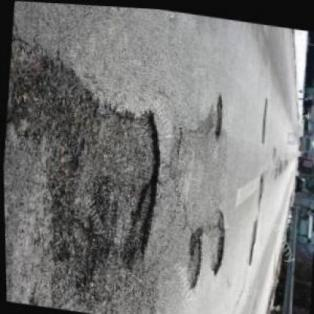Hueco: (30, 89, 168, 303), (180, 220, 205, 289), (205, 203, 226, 274), (243, 208, 257, 264), (211, 89, 224, 136), (259, 91, 269, 141), (254, 166, 264, 205), (271, 161, 279, 176)
